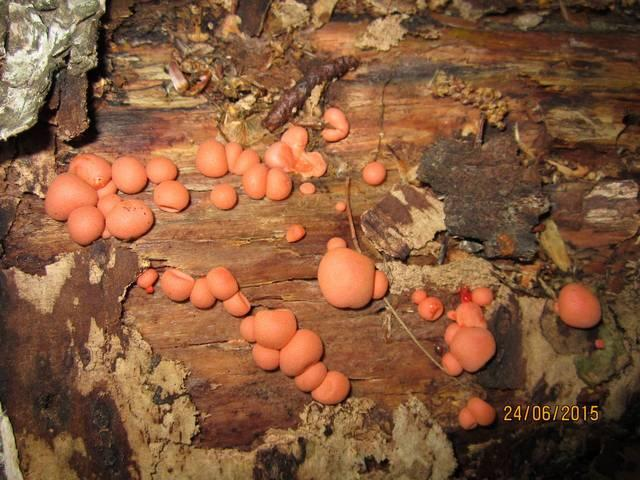Non-edible Mushroom: (131, 245, 342, 394), (190, 108, 381, 234), (43, 151, 189, 245), (260, 50, 360, 133), (316, 246, 375, 309), (43, 172, 97, 221), (555, 281, 602, 329), (449, 325, 496, 372), (104, 197, 154, 240), (65, 204, 104, 245), (310, 369, 350, 405)
